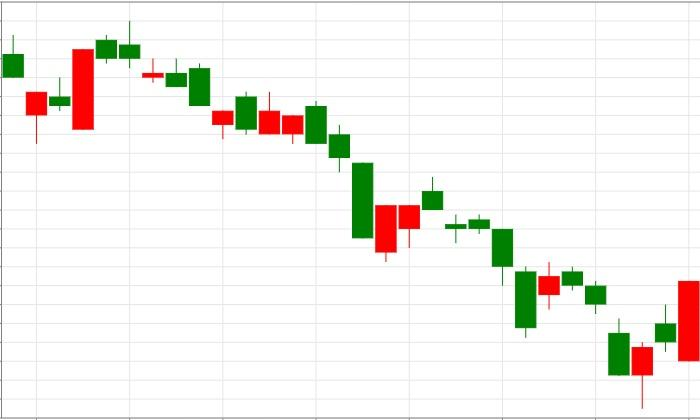bullish_engulfing_rise: (95, 21, 328, 145), (2, 35, 94, 143)
